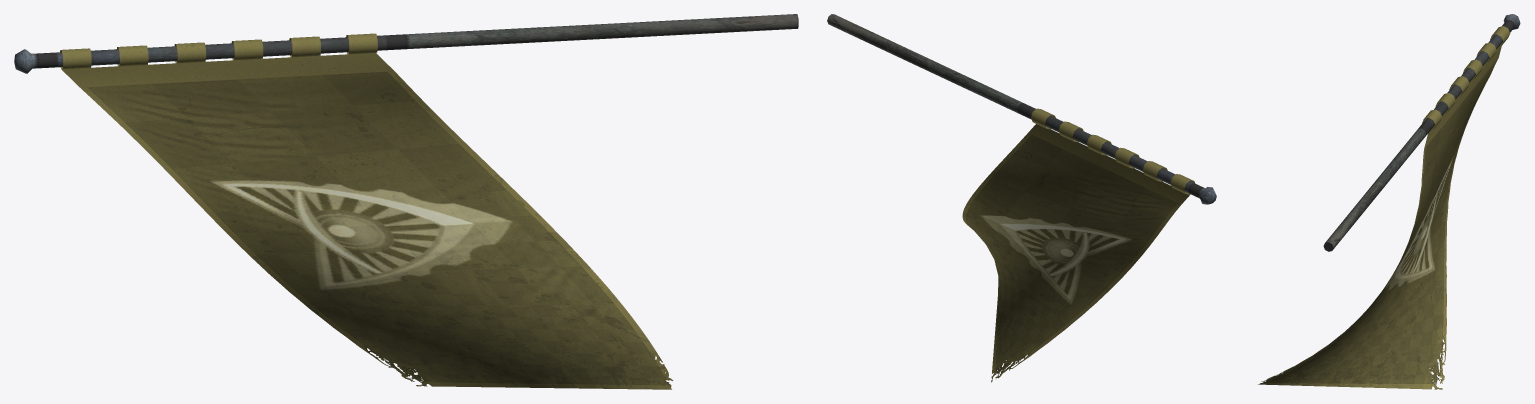
File: mp_flag_axis_3_carry_LOD0.obj
3 renders of one model, left to right at view 1: azimuth 30°, elevation 25°; view 2: azimuth 150°, elevation 25°; view 3: azimuth 270°, elevation 25°, orthographic. The views are drawn at different scales.
Parts seen in each view (by area): view 1: mtl_flag_axis_3, mtl_mp_flag_base; view 2: mtl_flag_axis_3, mtl_mp_flag_base; view 3: mtl_flag_axis_3, mtl_mp_flag_base.
Boxes of the visible parts, x1,y1,x2,y2 form: mtl_flag_axis_3: (60,33,673,389); mtl_mp_flag_base: (14,14,798,73); mtl_flag_axis_3: (962,108,1195,382); mtl_mp_flag_base: (827,14,1216,204); mtl_flag_axis_3: (1258,26,1510,389); mtl_mp_flag_base: (1323,14,1520,251).
Size of the model in its own units: 131 by 74.03 by 69.83.
